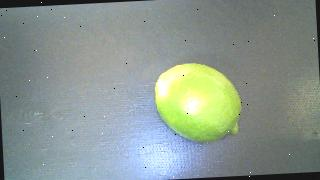EXPORTACION: (154, 61, 244, 145)
